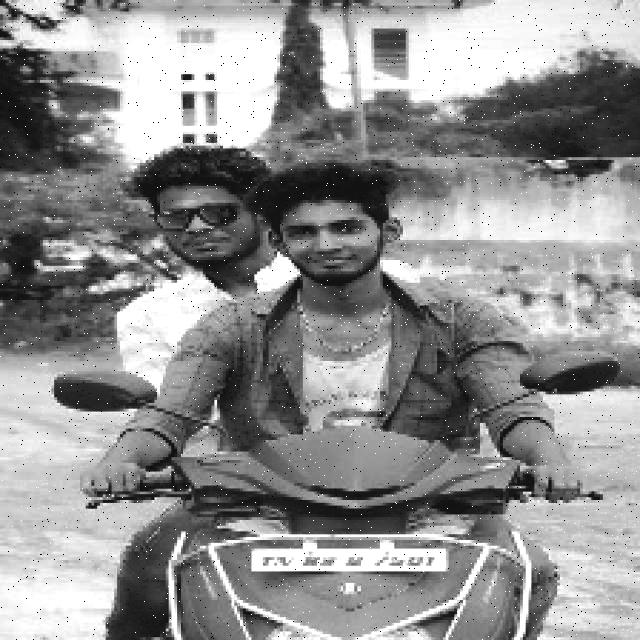Bike: (135, 405, 561, 640)
